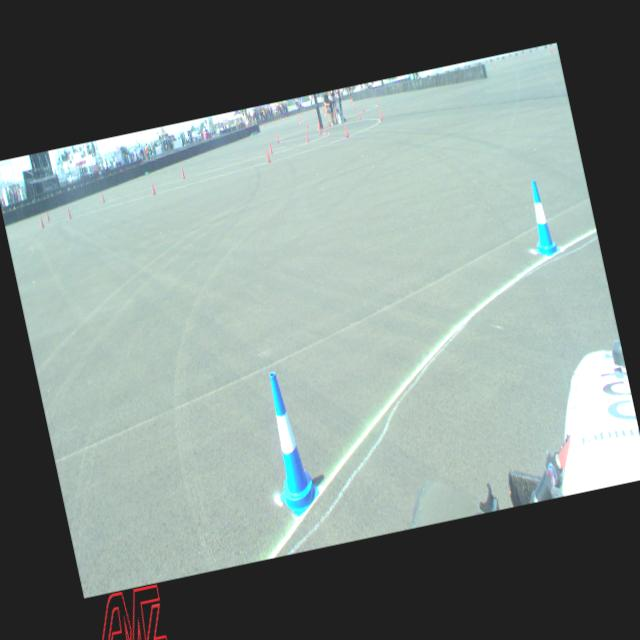blue_cone: (254, 368, 323, 520), (522, 178, 558, 255)
